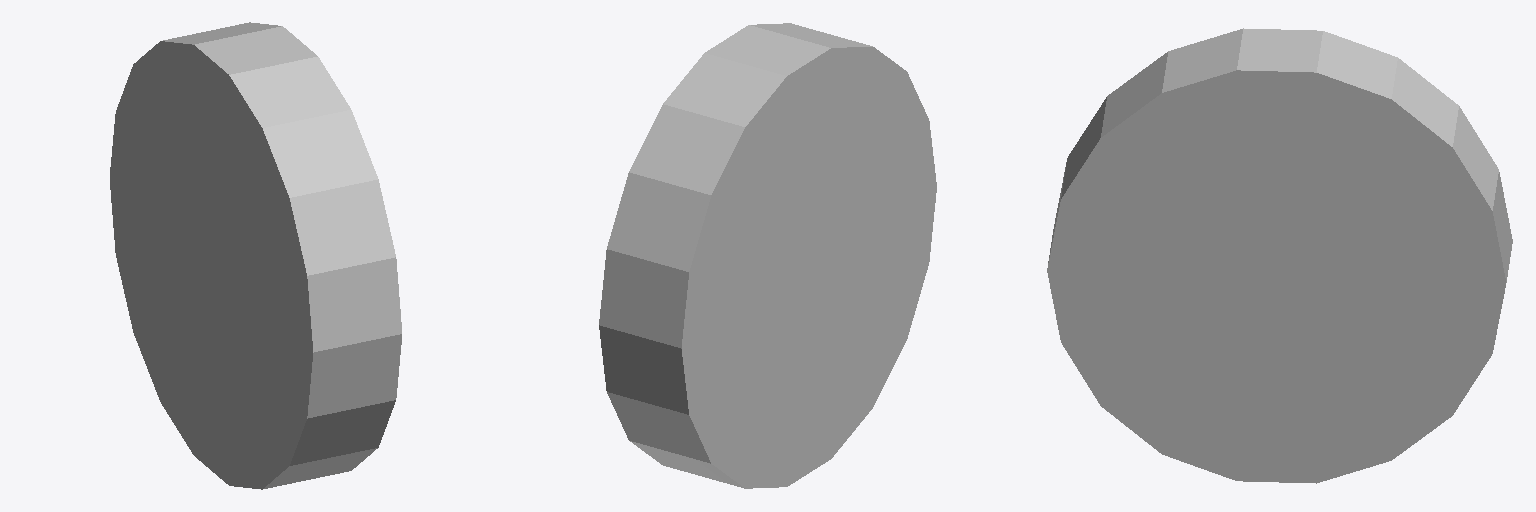
The model's file is Baffle Seule Enceinte Concert 1.obj.
3 renders of one model, left to right at view 1: azimuth 30°, elevation 25°; view 2: azimuth 150°, elevation 25°; view 3: azimuth 270°, elevation 25°, orthographic.
Parts seen in each view (by area): view 1: EnceinteConcertBaffle001; view 2: EnceinteConcertBaffle001; view 3: EnceinteConcertBaffle001.
Boxes of the visible parts, x1=… form: EnceinteConcertBaffle001: x1=110, y1=22, x2=401, y2=489; EnceinteConcertBaffle001: x1=599, y1=23, x2=936, y2=488; EnceinteConcertBaffle001: x1=1047, y1=28, x2=1512, y2=483.
Size of the model in its own units: 4.14 by 14.55 by 14.95.